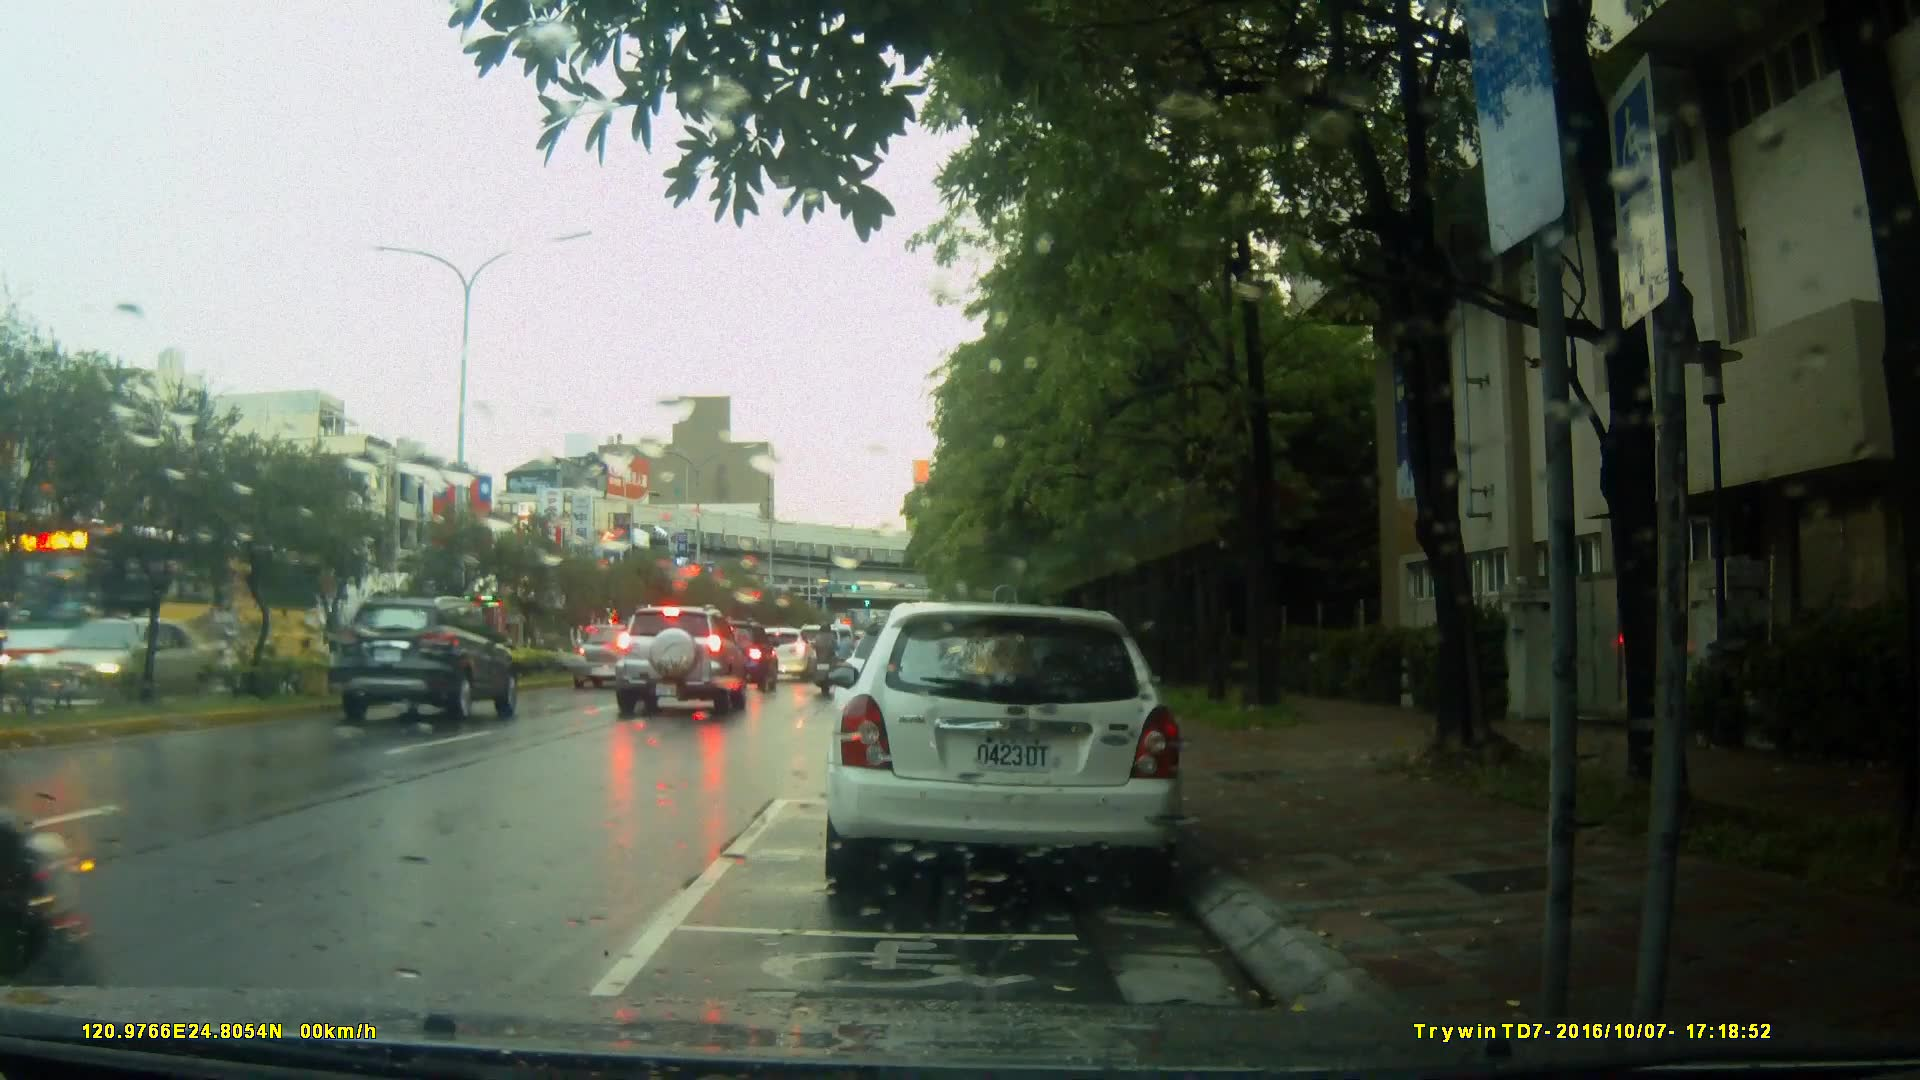rider: (809, 619, 845, 704)
vehicle: (820, 602, 1188, 898), (3, 528, 321, 686), (333, 591, 522, 722), (609, 604, 747, 721), (692, 618, 782, 695)
